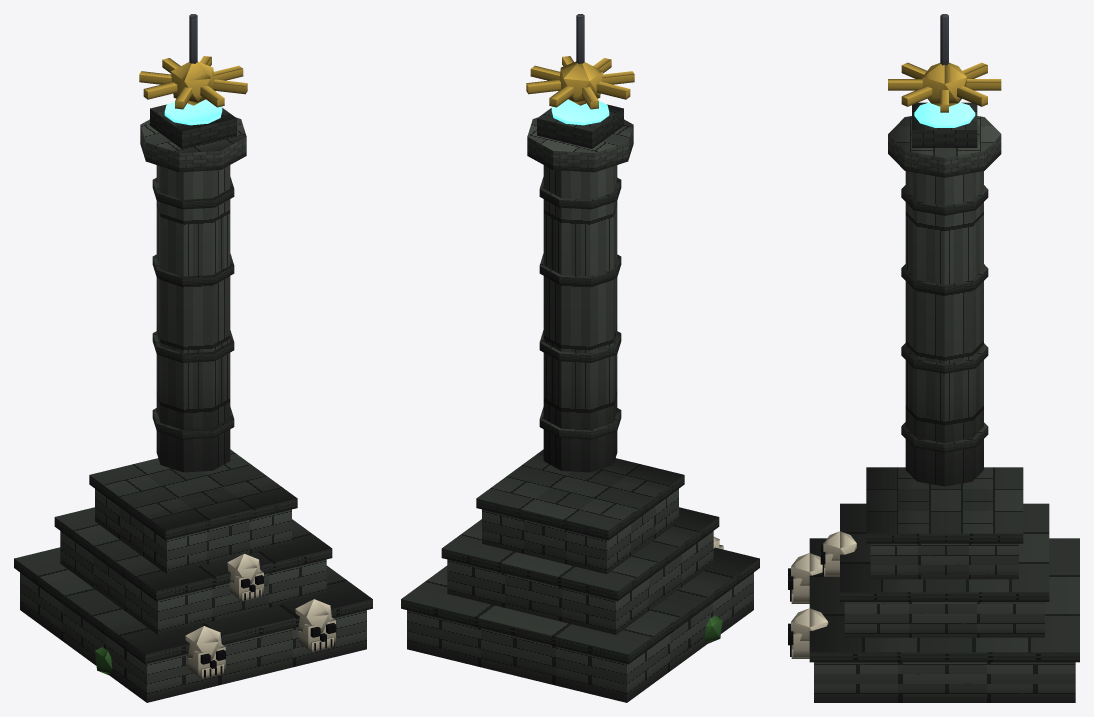
The model's file is plague_column.glb.
The picture shows the model from 3 angles, left to right: view 1: azimuth 30°, elevation 25°; view 2: azimuth 150°, elevation 25°; view 3: azimuth 270°, elevation 25°; orthographic projection. The views are drawn at different scales.
Parts seen in each view (by area): view 1: plague_column; view 2: plague_column; view 3: plague_column.
Part boxes in pixels (<box>): plague_column: <box>14,14,372,702</box>; plague_column: <box>401,14,759,702</box>; plague_column: <box>788,14,1079,702</box>.
Bounding box in the file's own units: 1.26 × 3.23 × 1.34.
1 material, 1 textured.
